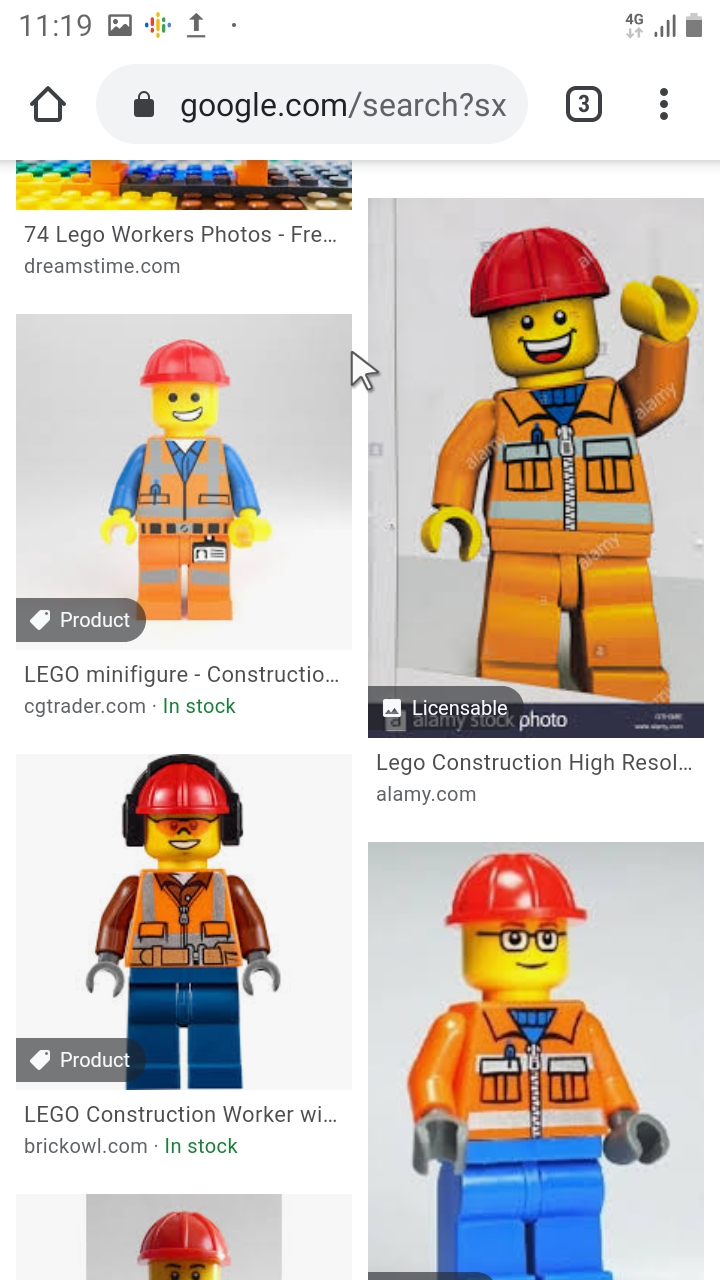pedestrian: (408, 210, 700, 686), (396, 847, 683, 1280), (84, 745, 290, 1086), (92, 325, 274, 631)
